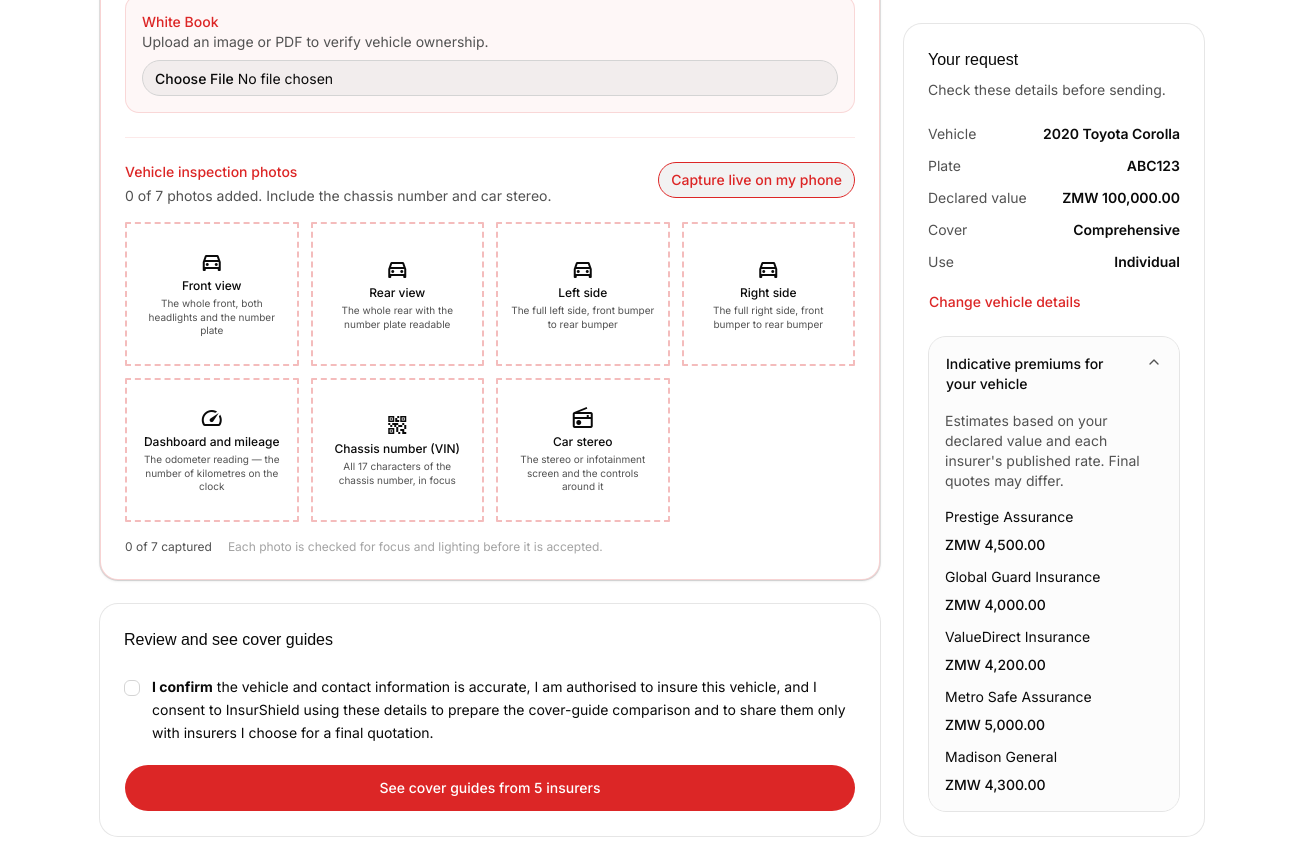
Test case: quote request requirements › blocks sending without ownership documents, photos and consent
(page scrolled)
Click the button "See cover guides from 5 insurers" at (490, 788), box [124,764,856,812]
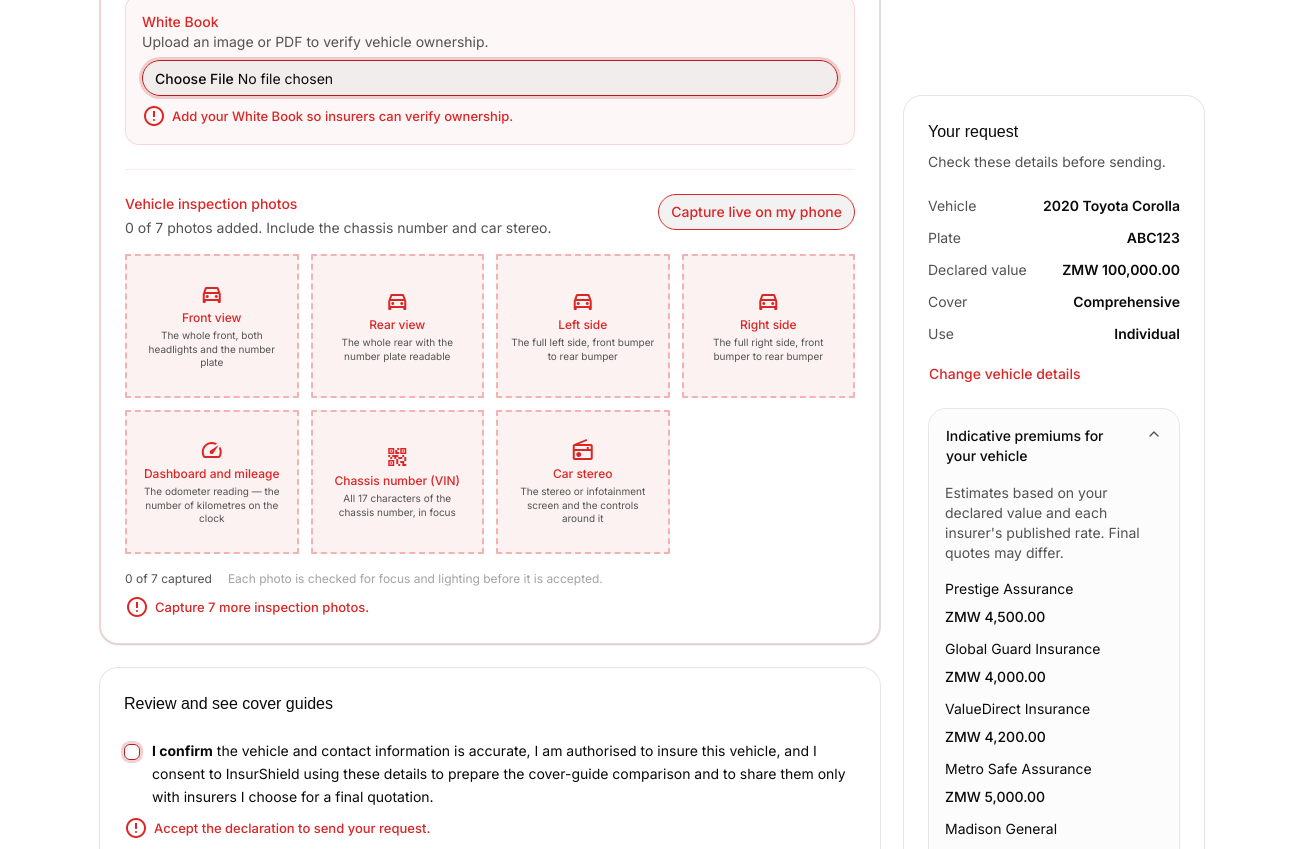
Expected: the text "Add your White Book so insurers can verify ownership." is shown, [142,102,513,130]
Expected: the text "Capture 7 more inspection photos." is shown, [125,593,369,621]
Expected: the text "Accept the declaration to send your request." is shown, [124,814,430,842]
